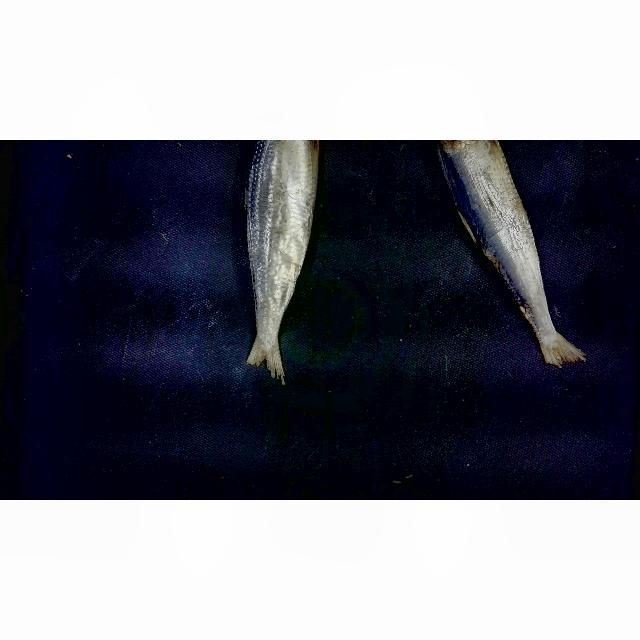Grade_A_Body: (427, 147, 574, 291), (230, 141, 320, 273)
Grade_A_Tail: (225, 252, 321, 405), (481, 267, 610, 380)
